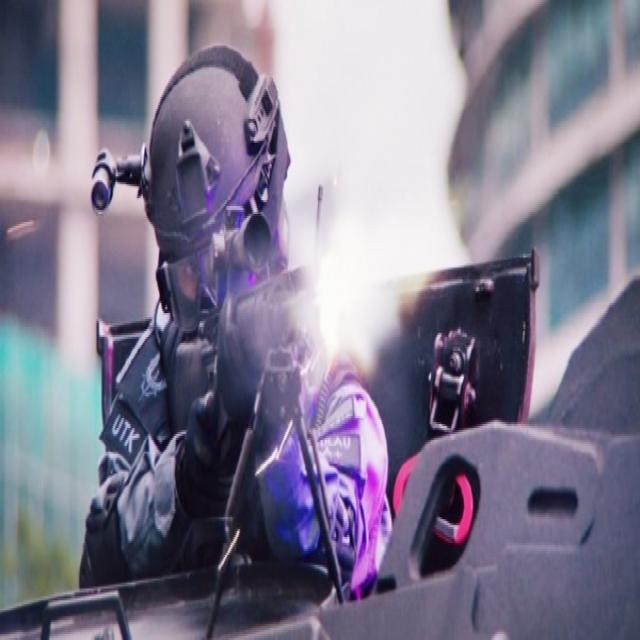rifle: (169, 262, 352, 635)
